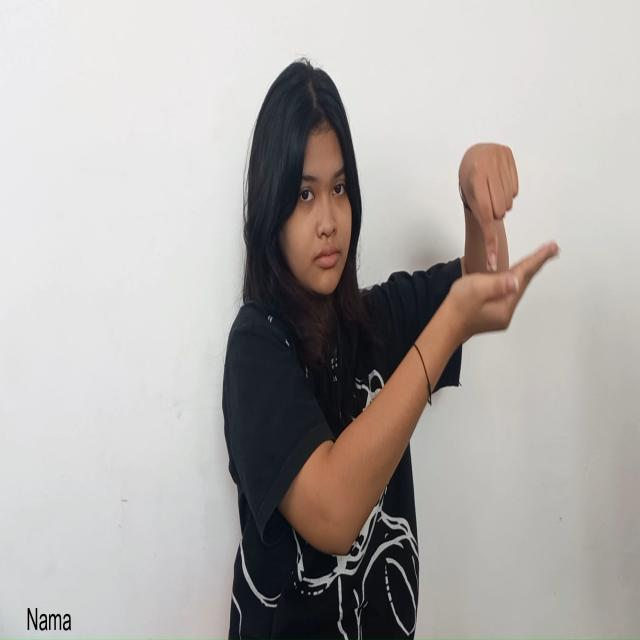Nama -BISINDO-: (442, 142, 560, 344)
